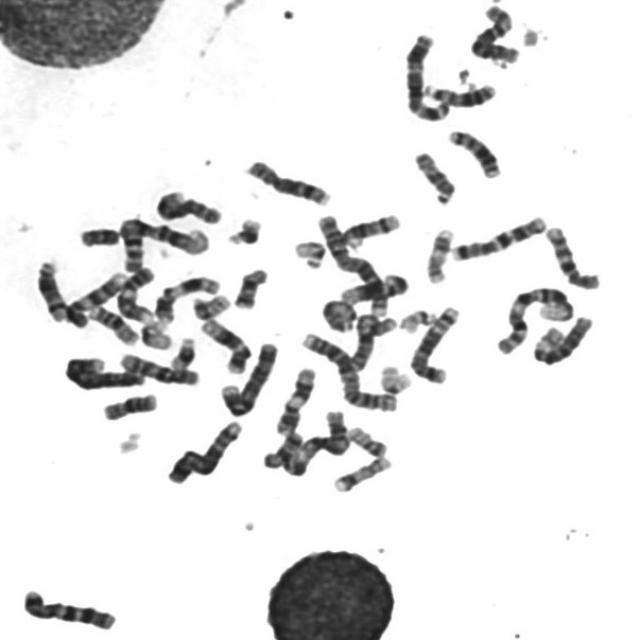A1: (492, 279, 578, 356), (114, 211, 214, 273)
A2: (296, 326, 401, 414), (314, 209, 392, 318)
A3: (278, 404, 352, 477), (399, 27, 455, 123)
B4: (217, 335, 281, 419), (61, 355, 150, 392)
B5: (162, 414, 246, 486), (405, 299, 465, 385)
C10: (541, 220, 605, 290), (114, 347, 204, 387)
C11: (151, 269, 224, 326), (270, 362, 320, 436)
C12: (196, 312, 255, 375), (335, 266, 413, 305)
C6: (528, 308, 598, 366), (465, 0, 524, 63)
C7: (447, 209, 551, 262), (18, 582, 121, 632)
C8: (241, 152, 334, 208), (151, 184, 226, 225)
C9: (58, 265, 130, 328), (112, 261, 160, 324)
D13: (444, 123, 505, 180), (419, 76, 500, 108)
D14: (338, 206, 406, 250), (32, 252, 72, 324)
D15: (410, 145, 460, 206), (322, 298, 359, 334)
E16: (82, 298, 142, 347), (98, 387, 161, 422)
E17: (329, 450, 396, 494), (422, 222, 458, 285)
E18: (259, 426, 307, 471), (230, 262, 272, 310)
F19: (136, 316, 176, 352), (376, 360, 416, 396)
F20: (344, 421, 390, 458), (188, 288, 233, 321)
G21: (222, 211, 265, 247), (166, 331, 200, 371)
G22: (289, 234, 329, 270), (396, 302, 441, 334)
X: (344, 309, 401, 372)
Y: (74, 221, 122, 248)
